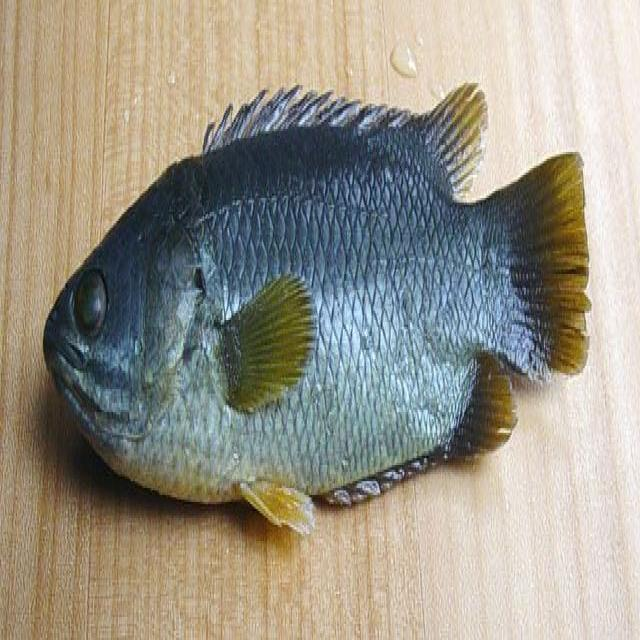Climbing-Perch: (30, 48, 609, 616)
